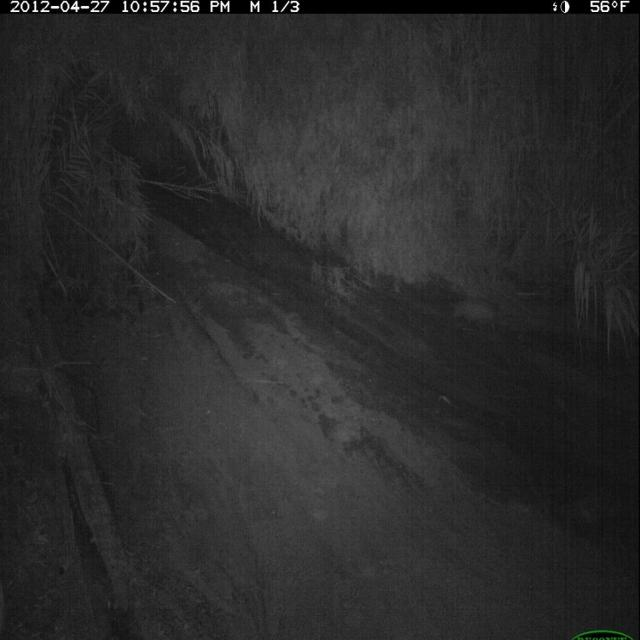opossum: (447, 292, 508, 334)
